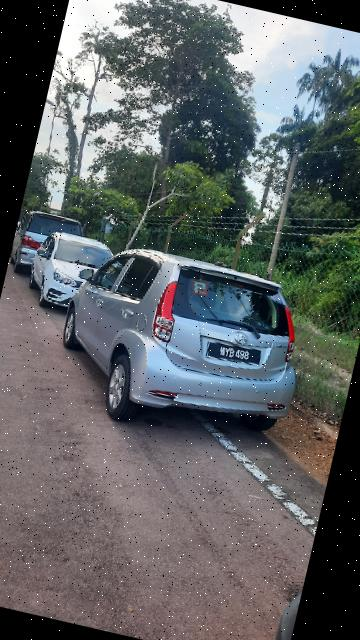License_Plate: (202, 335, 267, 370)
car: (41, 232, 322, 463)
